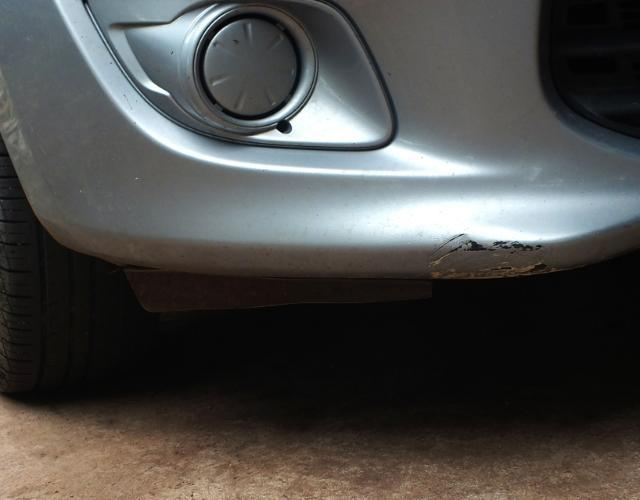Bumper: (412, 202, 569, 298)
